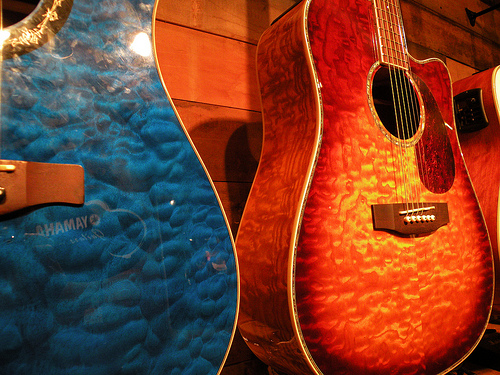guitar: (231, 1, 495, 373)
